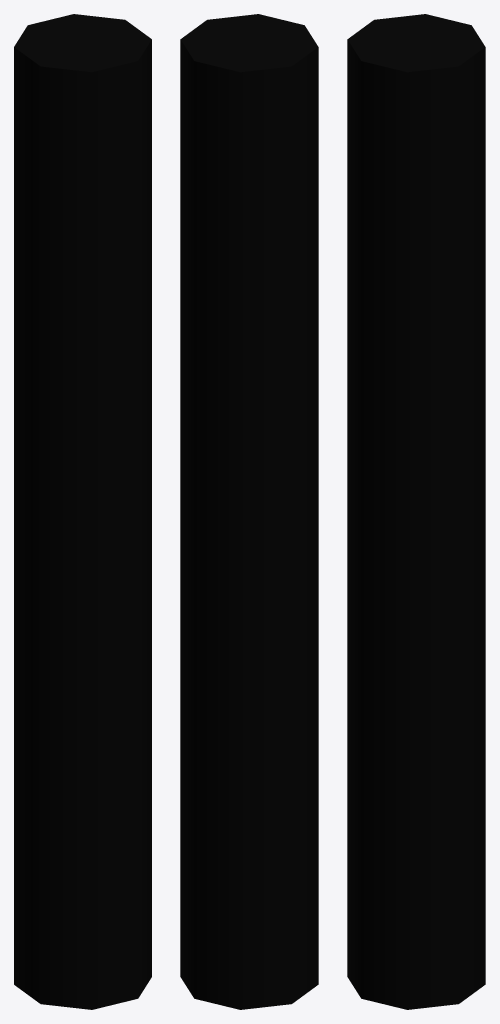
3 renders of one model, left to right at view 1: azimuth 30°, elevation 25°; view 2: azimuth 150°, elevation 25°; view 3: azimuth 330°, elevation 25°, orthographic.
Parts seen in each view (by area): view 1: Joint_0_Object_0; view 2: Joint_0_Object_0; view 3: Joint_0_Object_0.
Boxes of the visible parts, <box> form: Joint_0_Object_0: <box>14,14,151,1009</box>; Joint_0_Object_0: <box>180,14,318,1009</box>; Joint_0_Object_0: <box>347,14,485,1009</box>.
Size of the model in its own units: 129 by 1041 by 129.
Materials: 1 (1 with a texture image).
